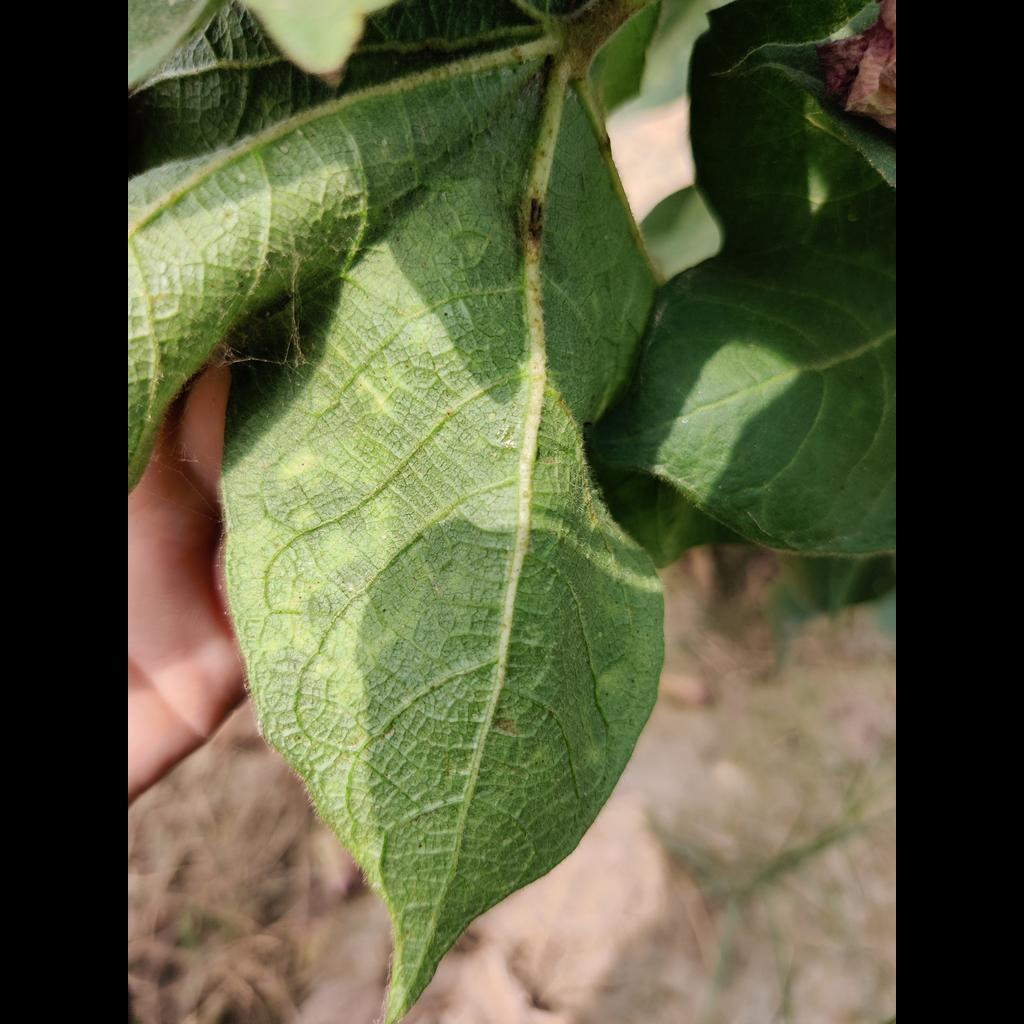nymph: (279, 145, 288, 153), (159, 263, 166, 273), (239, 174, 246, 183), (381, 138, 387, 147), (296, 130, 304, 135)
